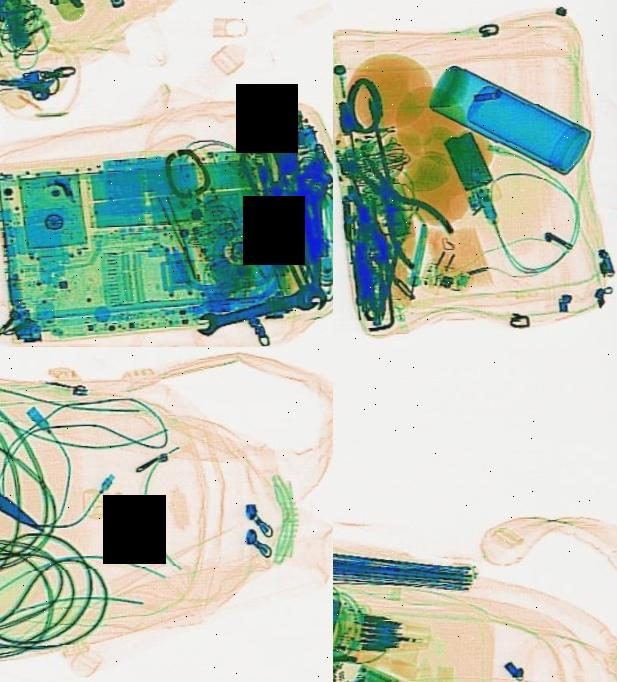Pliers: (338, 128, 459, 282)
Wrench: (194, 280, 320, 338), (299, 175, 333, 311)
